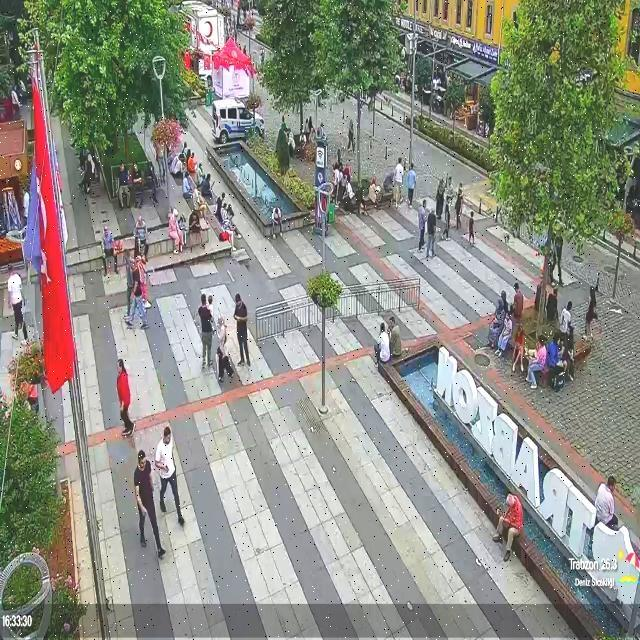Car: (198, 89, 268, 147)
